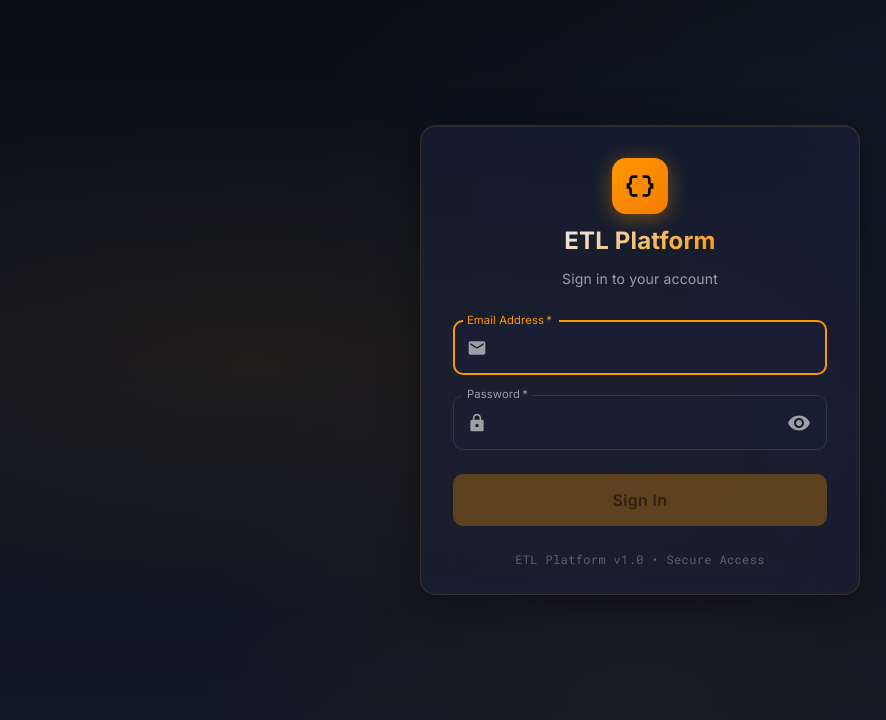
Test: LoginPage › enables submit button when fields are filled
Type "test@example.com" into the field labelled "Email Address *". click: x=661, y=348
box: [495, 321, 827, 375]
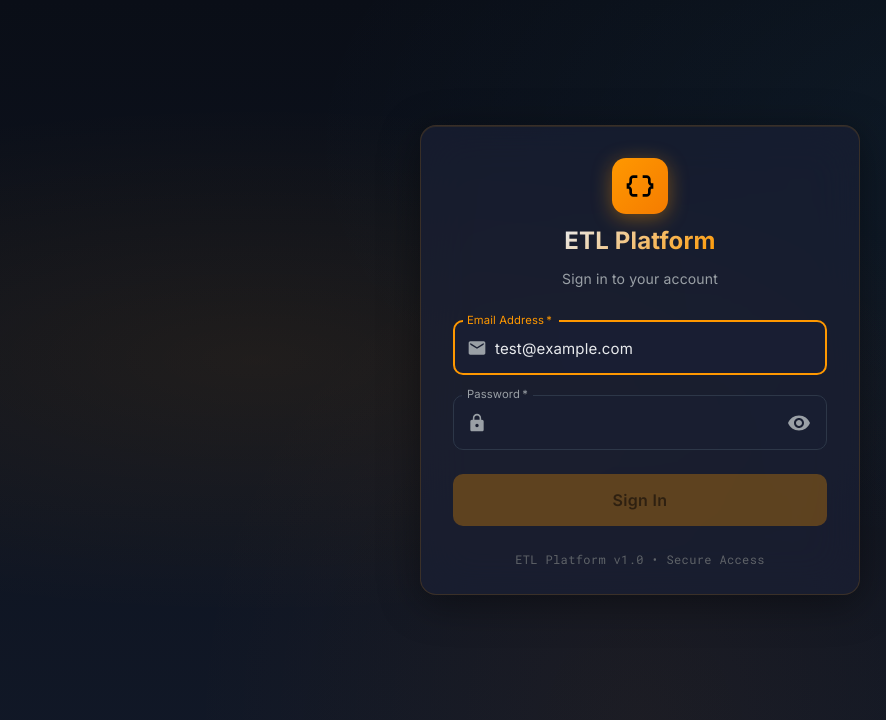
Type "password123" into the password field labelled "Password *". click: x=634, y=423
box: [495, 395, 774, 450]
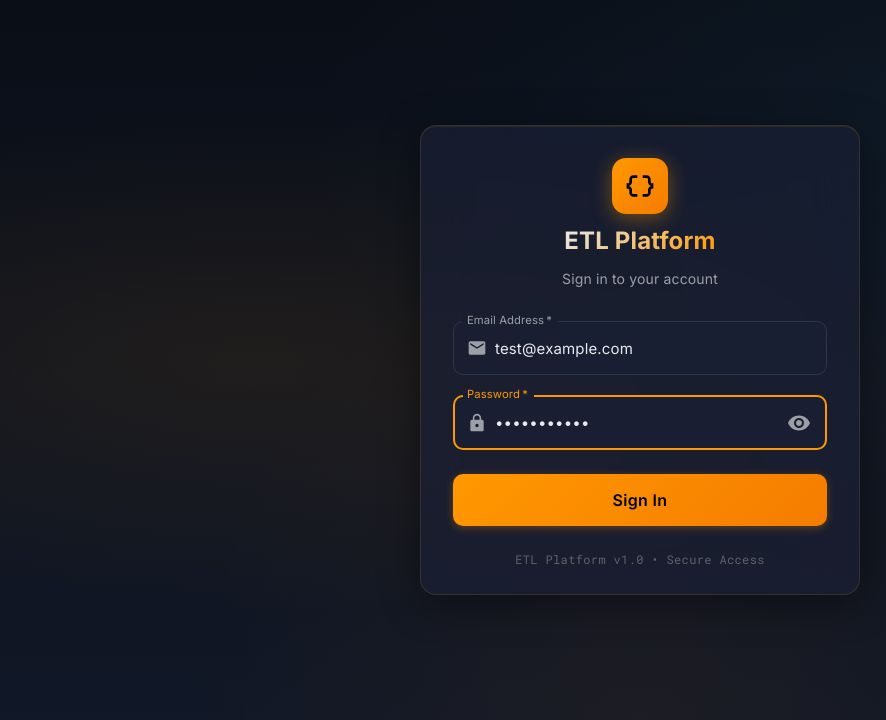
Expected: the button "Sign In" is enabled, [453, 474, 827, 526]
